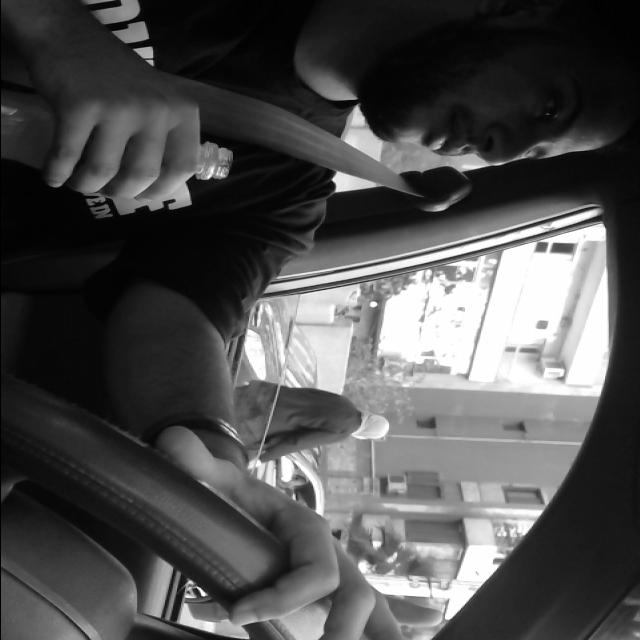drinking: (0, 87, 235, 182)
